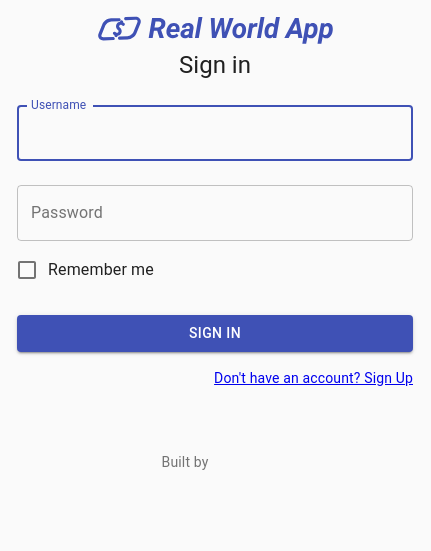
it: sigin › show invalid username error message
The image size is (431, 551).
Type "rch" into the field named "username".
click(215, 133); type("rch")  # box [17, 105, 413, 161]
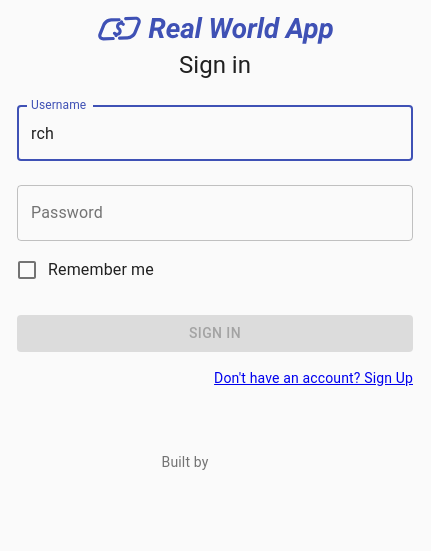
Type "123456" into the password field named "password".
click(215, 213); type("123456")  # box [17, 185, 413, 241]
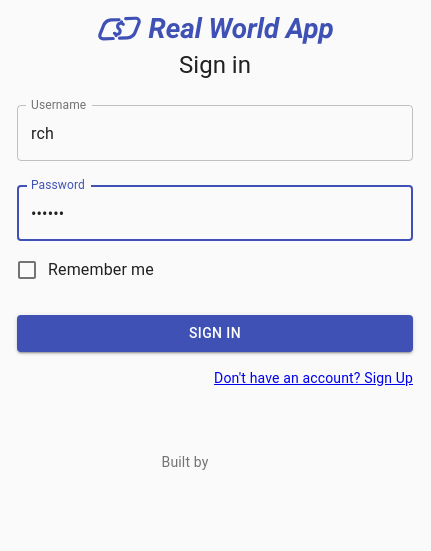
Click the button with test id "signin-submit".
click(215, 334)  # box [17, 315, 413, 352]
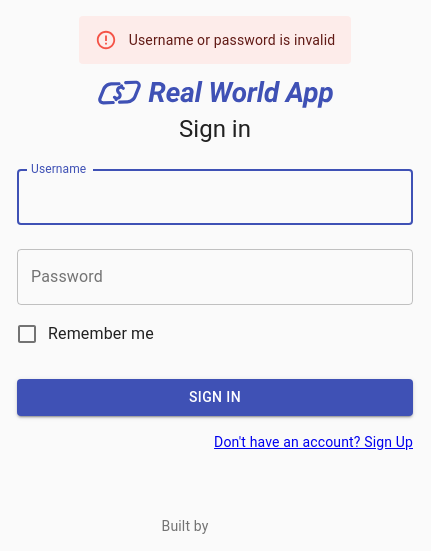
Now the text with test id "signin-error" reads "Username or password is invalid", box [129, 32, 336, 48]
